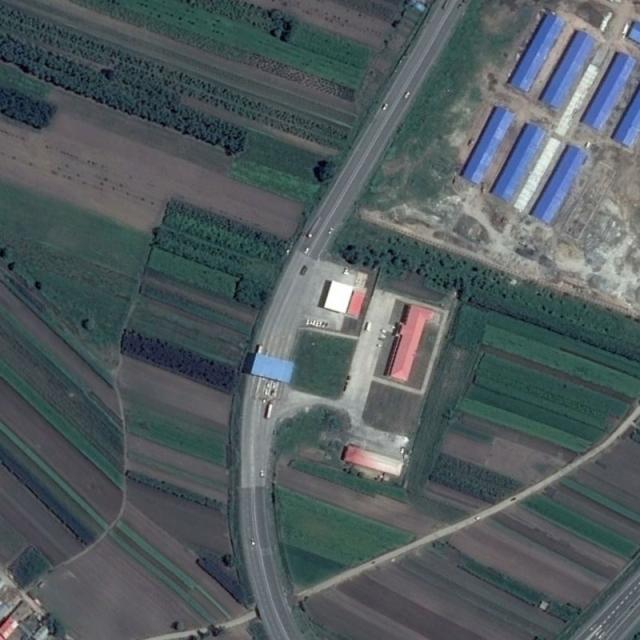vehicle: (307, 217, 322, 238), (266, 399, 274, 419), (300, 266, 309, 276), (382, 103, 388, 111), (304, 247, 310, 254), (404, 92, 410, 99), (328, 228, 333, 234), (260, 470, 263, 477)
